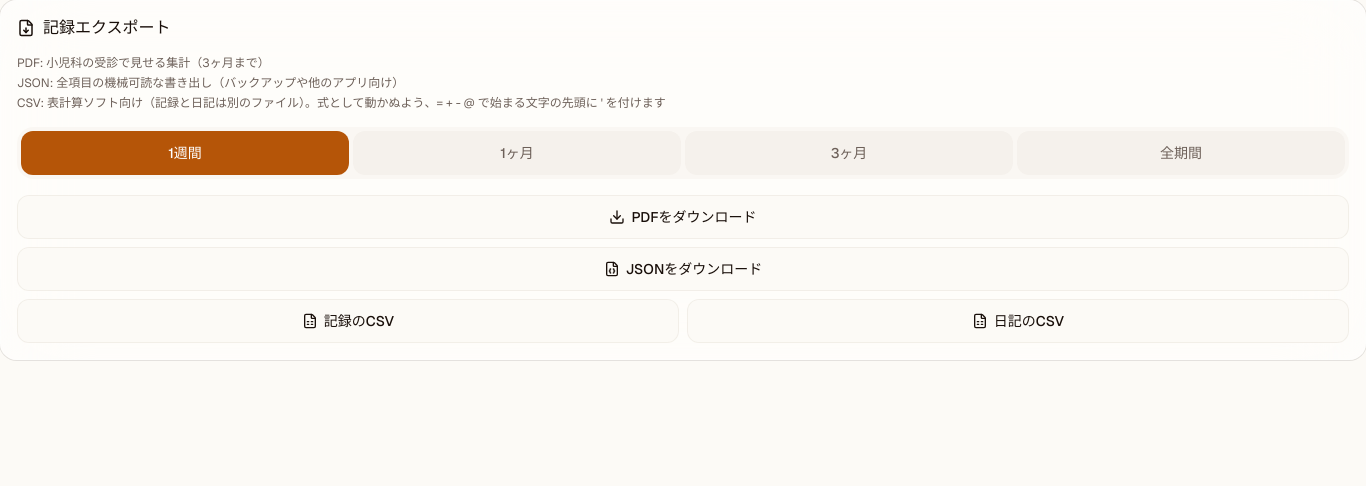
Test: ExportCard: CSV › 記録の CSV を format=csv&table=logs で叩き、blob のまま保存する（BOM を落とさぬ）
Click the button "記録のCSV": (348, 321) [17, 299, 679, 343]
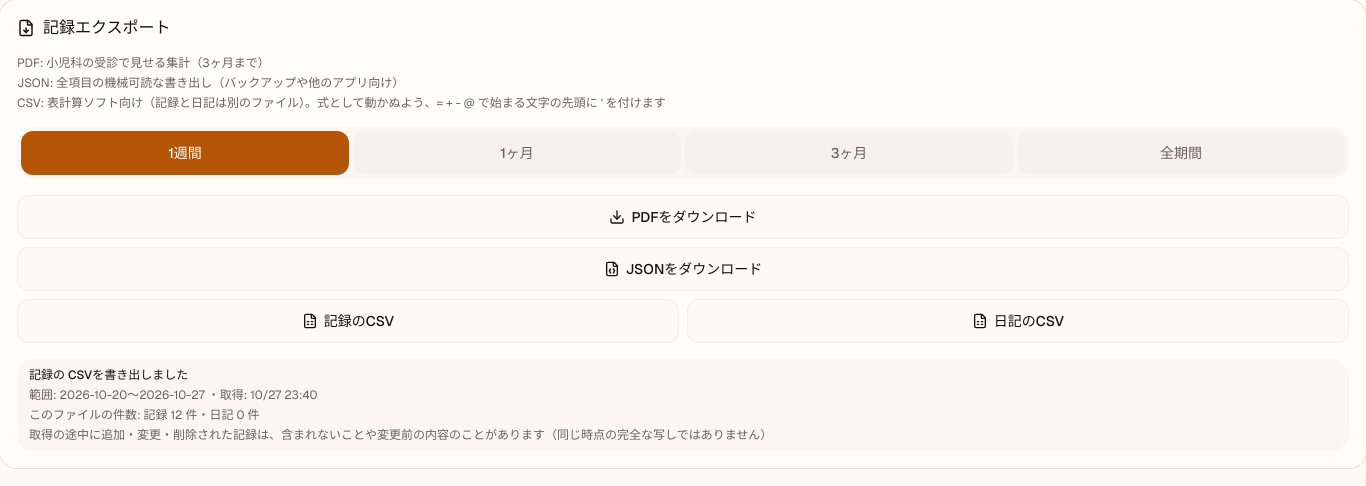
Expected: the message with test id "export-outcome" shows "範囲: 2026-10-20〜2026-10-27", [17, 359, 1349, 451]
Expected: the message with test id "export-outcome" shows "取得:", [205, 387, 317, 403]
Expected: the message with test id "export-outcome" shows "記録 12 件", [17, 359, 1349, 451]
